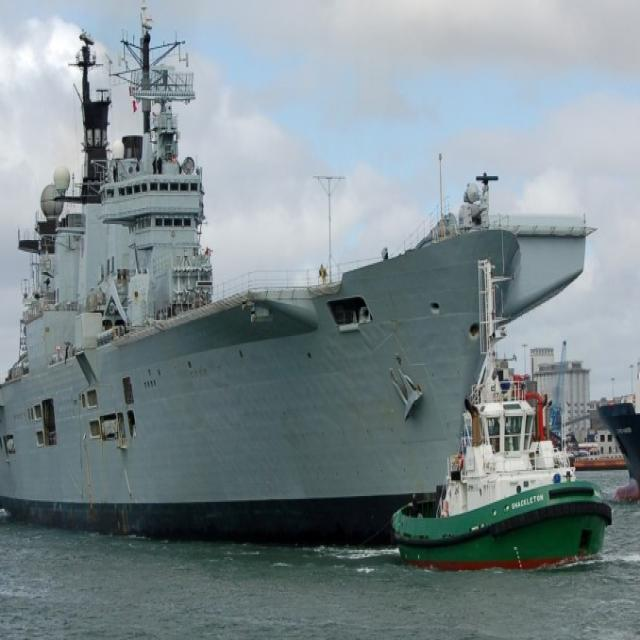Portanaves: (1, 1, 595, 552)
